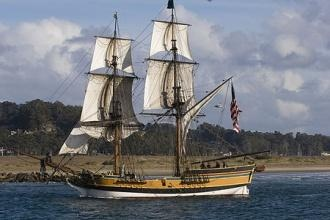fanchuan: (59, 4, 252, 196)
